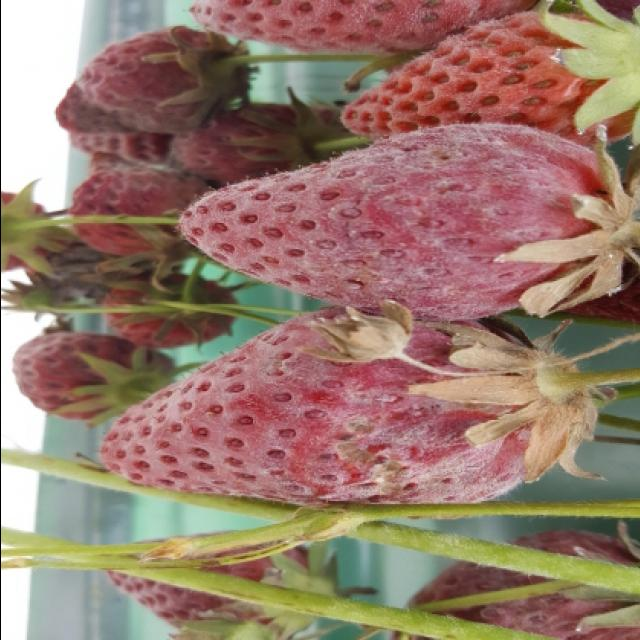Powdery Mildew Fruit: (97, 305, 603, 518), (176, 125, 630, 322), (340, 6, 640, 148), (395, 530, 640, 640), (189, 2, 547, 57)
